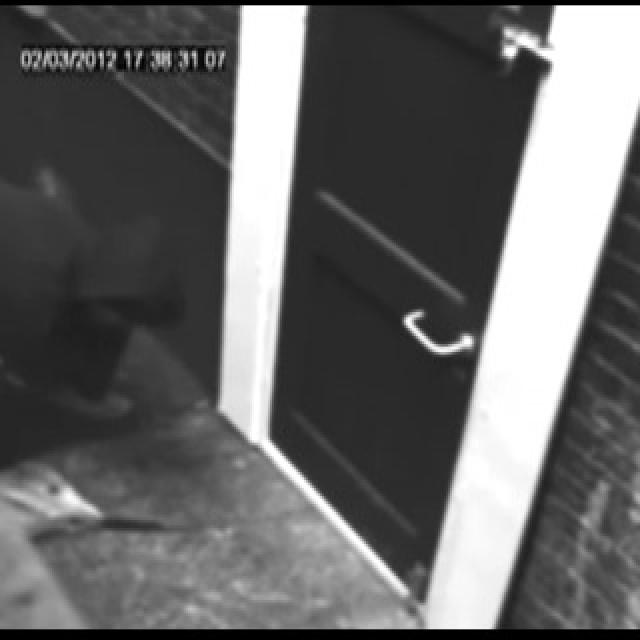thief: (61, 178, 205, 374)
